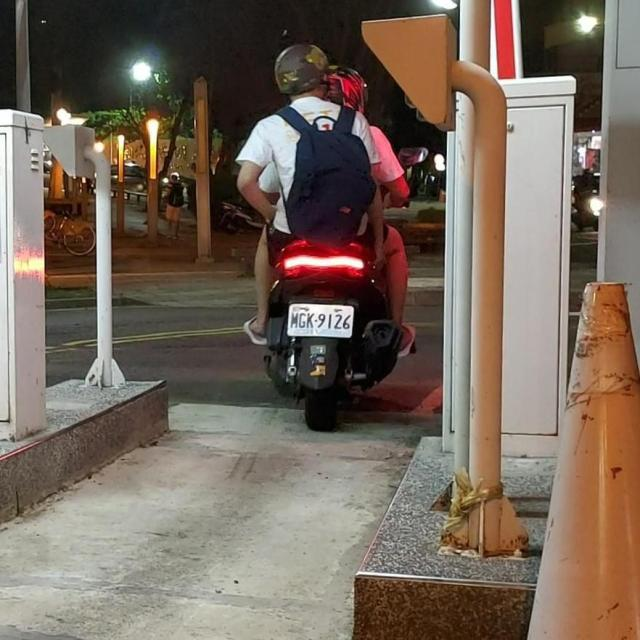W: (284, 297, 355, 340)
